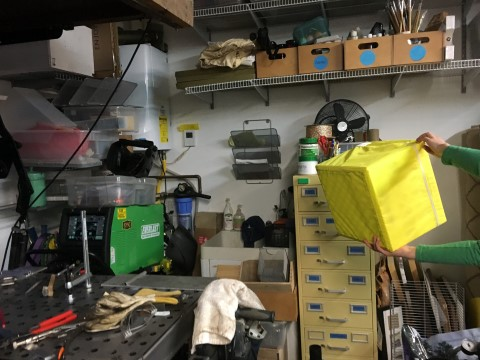cube: (316, 141, 448, 253)
